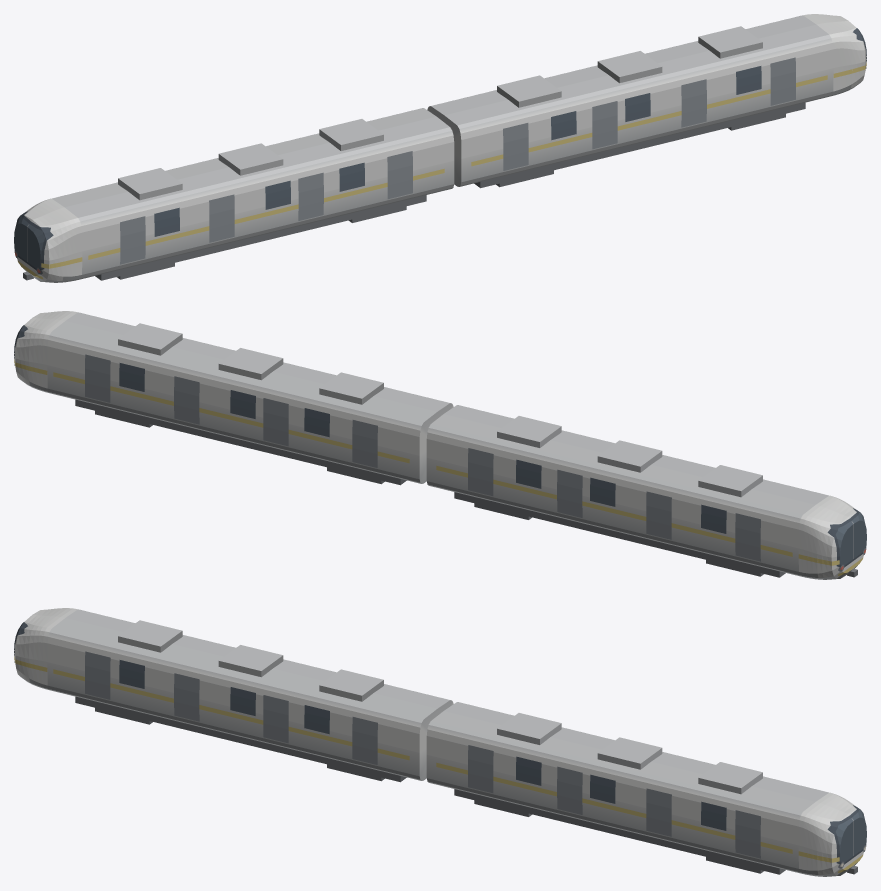
Rendered from 06_more_transit_3x2-06.glb.
3 renders of one model, top to bottom at view 1: azimuth 30°, elevation 25°; view 2: azimuth 150°, elevation 25°; view 3: azimuth 330°, elevation 25°, orthographic.
Bounding box in the file's own units: 42.68 × 3.88 × 3.14.
